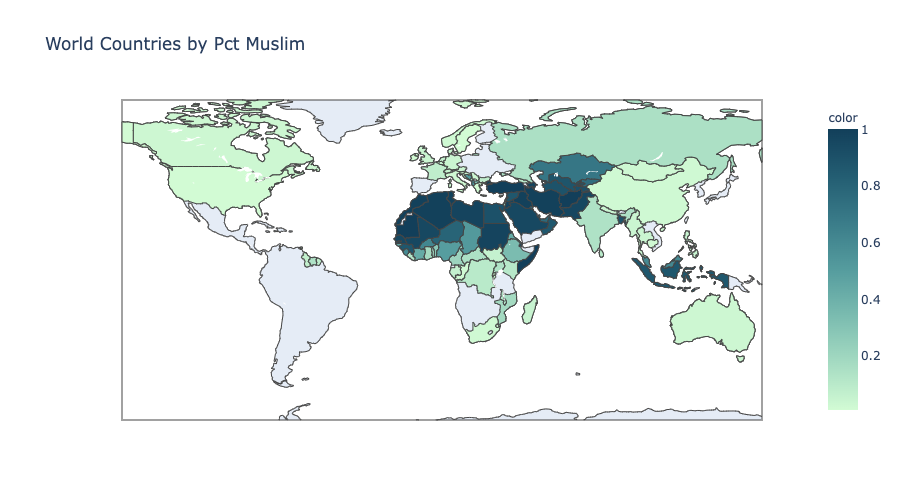

What the dashboard file says about the page in this screenshot:
{"tool":"tableau","page":{"name":"Dashboard 2","canvas":[650,860],"ordinal":1},"visuals":[{"type":"worksheet","title":"Sheet 3","mark":"Multipolygon","box":[8,9.8,474,840.3]},{"type":"legend","title":"Sheet 3","param":"[federated.18ai2ps00hkj1114wkhbp0jn7sxn].[none:CONTINENT:nk]","box":[482,9.8,160,253.4]}]}

Visuals, with their boxes on the page's 650x860 design canvas (x1, y1, x2, y2). These are canvas units, not pixel positions in the 900x500 screenshot, which may show the page scaled, cropped or inside an application window:
"Sheet 3" worksheet (Multipolygon marks): x1=8 y1=10 x2=482 y2=850
"Sheet 3" legend: x1=482 y1=10 x2=642 y2=263
